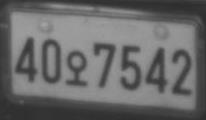0: (40, 39, 61, 83)
2: (172, 48, 192, 96)
4: (13, 36, 38, 83), (145, 46, 168, 93)
5: (119, 44, 142, 90)
7: (92, 42, 116, 87)
오: (65, 49, 88, 86)
